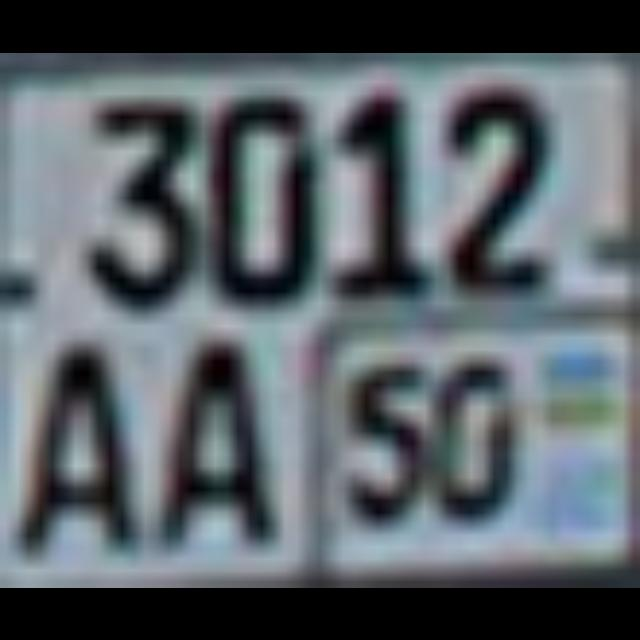0: (186, 76, 302, 284), (418, 332, 512, 506)
1: (314, 63, 420, 284)
2: (430, 64, 536, 272)
3: (70, 76, 186, 284)
5: (326, 332, 418, 506)
A: (0, 320, 128, 540), (140, 320, 268, 540)
